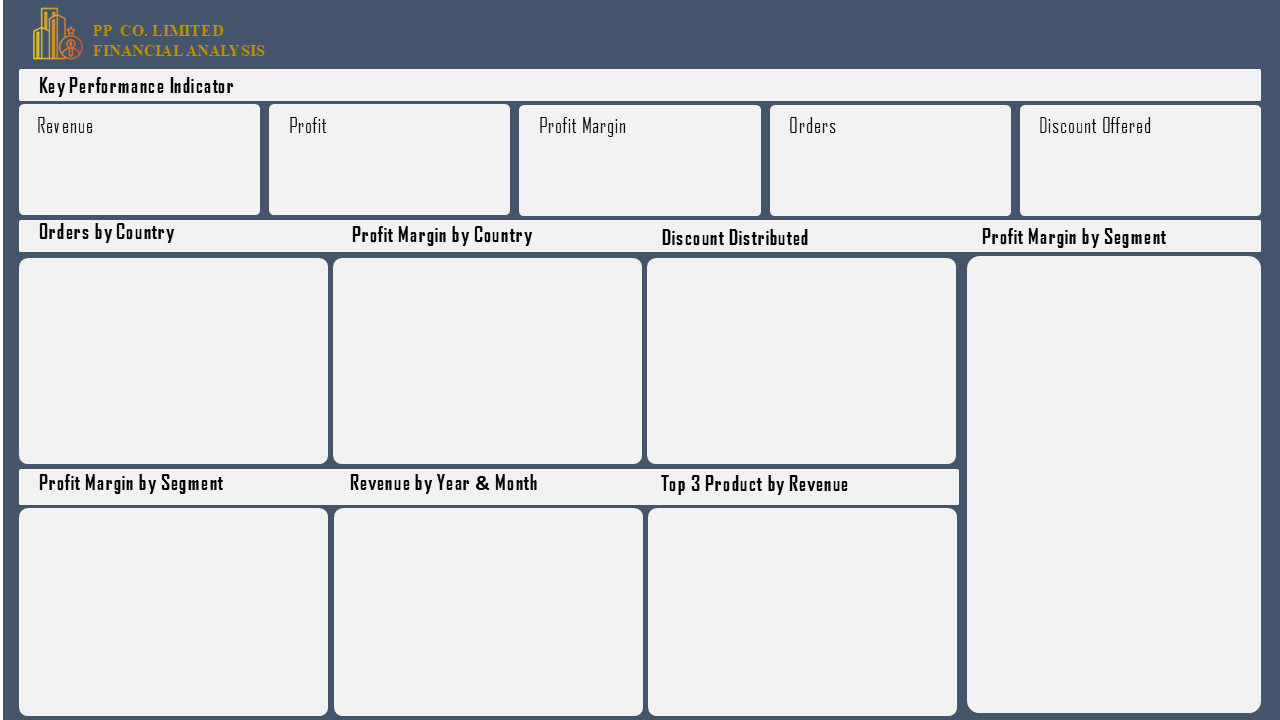

What the dashboard file says about the page in this screenshot:
{"tool":"powerbi","page":{"name":"Page 1","canvas":[1920,1080],"ordinal":0},"visuals":[{"type":"kpi","fields":{"Indicator":["_Measure Table.Total Revenue"],"TrendLine":["Date Table.Year"],"Goal":["_Measure Table.Total Revenue LY"]},"box":[45.3,197.6,319,117.3],"z":0},{"type":"kpi","fields":{"TrendLine":["Date Table.Year"],"Indicator":["_Measure Table.Discount Offered"],"Goal":["_Measure Table.Discount Offered LY"]},"box":[1547.9,201.7,319,113.2],"z":1000},{"type":"kpi","fields":{"TrendLine":["Date Table.Year"],"Indicator":["_Measure Table.Profit"],"Goal":["_Measure Table.Profit LY"]},"box":[419.9,201.7,319,113.2],"z":2000},{"type":"kpi","fields":{"TrendLine":["Date Table.Year"],"Indicator":["_Measure Table.Profit Margin"],"Goal":["_Measure Table.Profit Margin LY"]},"box":[800.7,212,319,102.9],"z":3000},{"type":"kpi","fields":{"TrendLine":["Date Table.Year"],"Indicator":["_Measure Table.Orders"],"Goal":["_Measure Table.Orders LY"]},"box":[1177.4,201.7,319,113.2],"z":4000},{"type":"clusteredColumnChart","fields":{"Y":["_Measure Table.Orders"],"Category":["Financials.Country"]},"box":[0,387,450.8,304.6],"z":5000},{"type":"treemap","fields":{"Group":["Financials.Country"],"Values":["_Measure Table.Profit Margin"]},"box":[506.3,389,452.8,290.2],"z":6000},{"type":"donutChart","fields":{"Category":["Financials.Discount Band"],"Y":["_Measure Table.Discount Offered"]},"box":[992.1,389,428.1,290.2],"z":7000},{"type":"barChart","fields":{"Category":["Financials.Segment"],"Y":["_Measure Table.Profit Margin"]},"box":[45.3,757.5,436.4,304.6],"z":8000},{"type":"lineChart","fields":{"Y":["_Measure Table.Total Revenue"],"Category":["Date Table.Date.Variation.Date Hierarchy.Year","Date Table.Date.Variation.Date Hierarchy.Quarter","Date Table.Date.Variation.Date Hierarchy.Month"]},"box":[506.3,776,452.8,304.6],"z":9000},{"type":"barChart","fields":{"Category":["Financials.Product"],"Y":["_Measure Table.Total Revenue"]},"box":[992.1,757.5,428.1,302.6],"z":10000},{"type":"pivotTable","fields":{"Rows":["Financials.Segment","Financials.Product"],"Values":["_Measure Table.Profit Margin"]},"box":[1457.3,389,426.1,671],"z":11000}]}

Visuals, with their boxes in screenshot pixels (x1, y1, x2, y2), scaled from the page's 1920x1080 canvas onto the 1280x720 screenshot:
kpi - _Measure Table.Total Revenue x Date Table.Year: (30, 132, 243, 210)
kpi - Date Table.Year x _Measure Table.Discount Offered: (1032, 134, 1245, 210)
kpi - Date Table.Year x _Measure Table.Profit: (280, 134, 493, 210)
kpi - Date Table.Year x _Measure Table.Profit Margin: (534, 141, 746, 210)
kpi - Date Table.Year x _Measure Table.Orders: (785, 134, 998, 210)
clusteredColumnChart - _Measure Table.Orders x Financials.Country: (0, 258, 301, 461)
treemap - Financials.Country x _Measure Table.Profit Margin: (338, 259, 639, 453)
donutChart - Financials.Discount Band x _Measure Table.Discount Offered: (661, 259, 947, 453)
barChart - Financials.Segment x _Measure Table.Profit Margin: (30, 505, 321, 708)
lineChart - _Measure Table.Total Revenue x Date Table.Date.Variation.Date Hierarchy.Year: (338, 517, 639, 719)
barChart - Financials.Product x _Measure Table.Total Revenue: (661, 505, 947, 707)
pivotTable - Financials.Segment x Financials.Product: (972, 259, 1256, 707)
